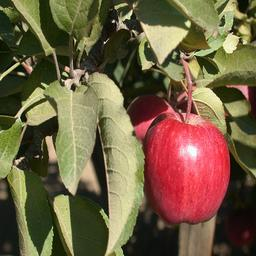apple: (144, 110, 232, 224)
